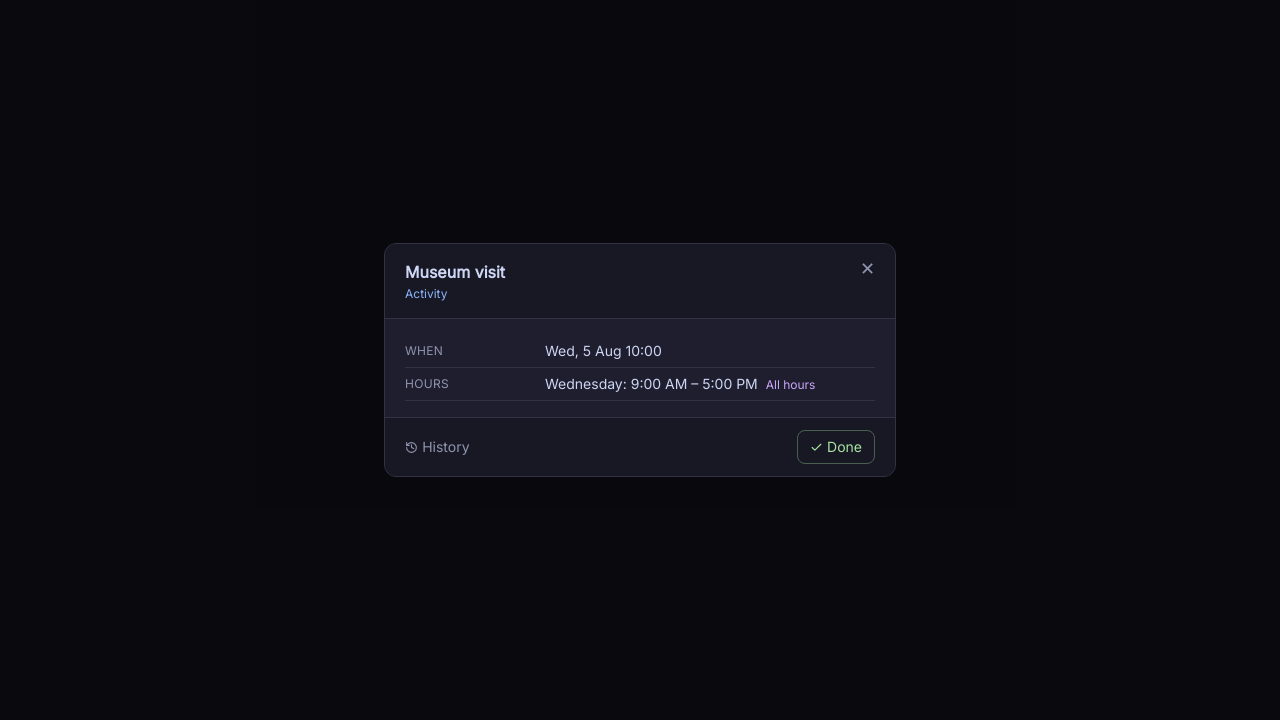
ItemDetailModal — HoursRow › highlights the item day and expands to show all lines on click
Expected: the text "Wednesday: 9:00 AM – 5:00 PM All hours" is shown, [545,375,816,392]
Expected: the text "Sunday: Closed" is not shown
Click the button "All hours": (791, 385) [766,377,815,393]
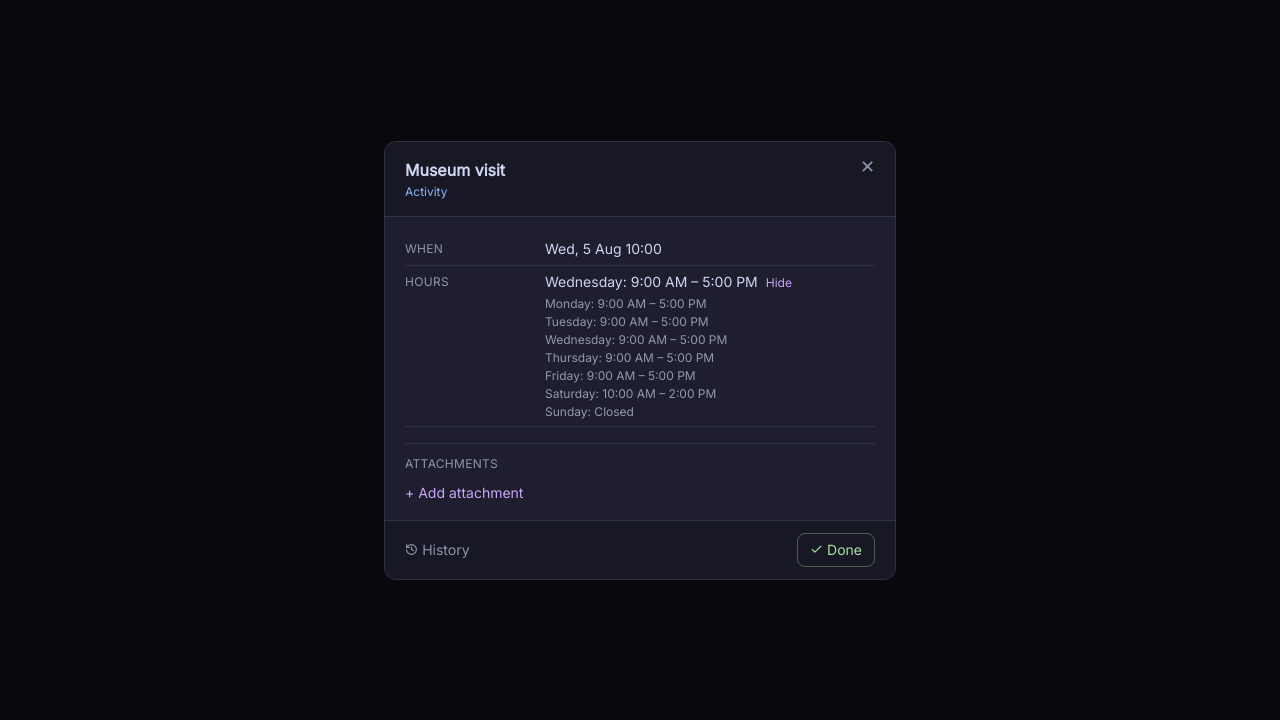
Result: the text "Sunday: Closed" is shown at [545,404,634,418]
